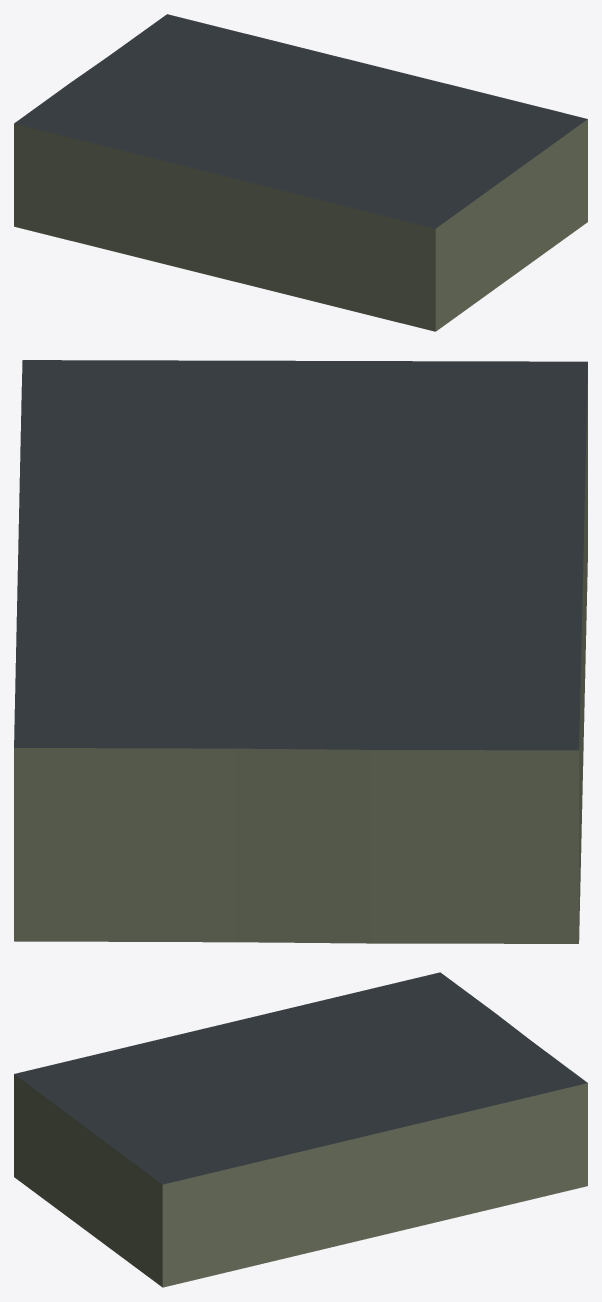
File: nyc-1088995-0.glb
The picture shows the model from 3 angles, top to bottom: view 1: azimuth 30°, elevation 25°; view 2: azimuth 150°, elevation 25°; view 3: azimuth 270°, elevation 25°; orthographic projection. The views are drawn at different scales.
Visible parts, largest first — view 1: nyc-1088995-0; view 2: nyc-1088995-0; view 3: nyc-1088995-0.
Boxes of the visible parts, x1=… form: nyc-1088995-0: x1=14, y1=14, x2=587, y2=331; nyc-1088995-0: x1=14, y1=360, x2=587, y2=943; nyc-1088995-0: x1=14, y1=972, x2=587, y2=1287.
Bounding box in the file's own units: 14.8 × 3.35 × 16.91.
